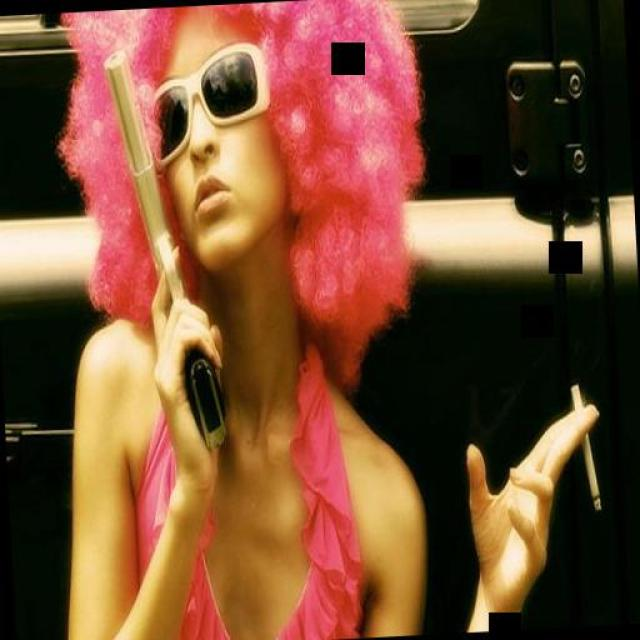gun: (100, 44, 228, 450)
